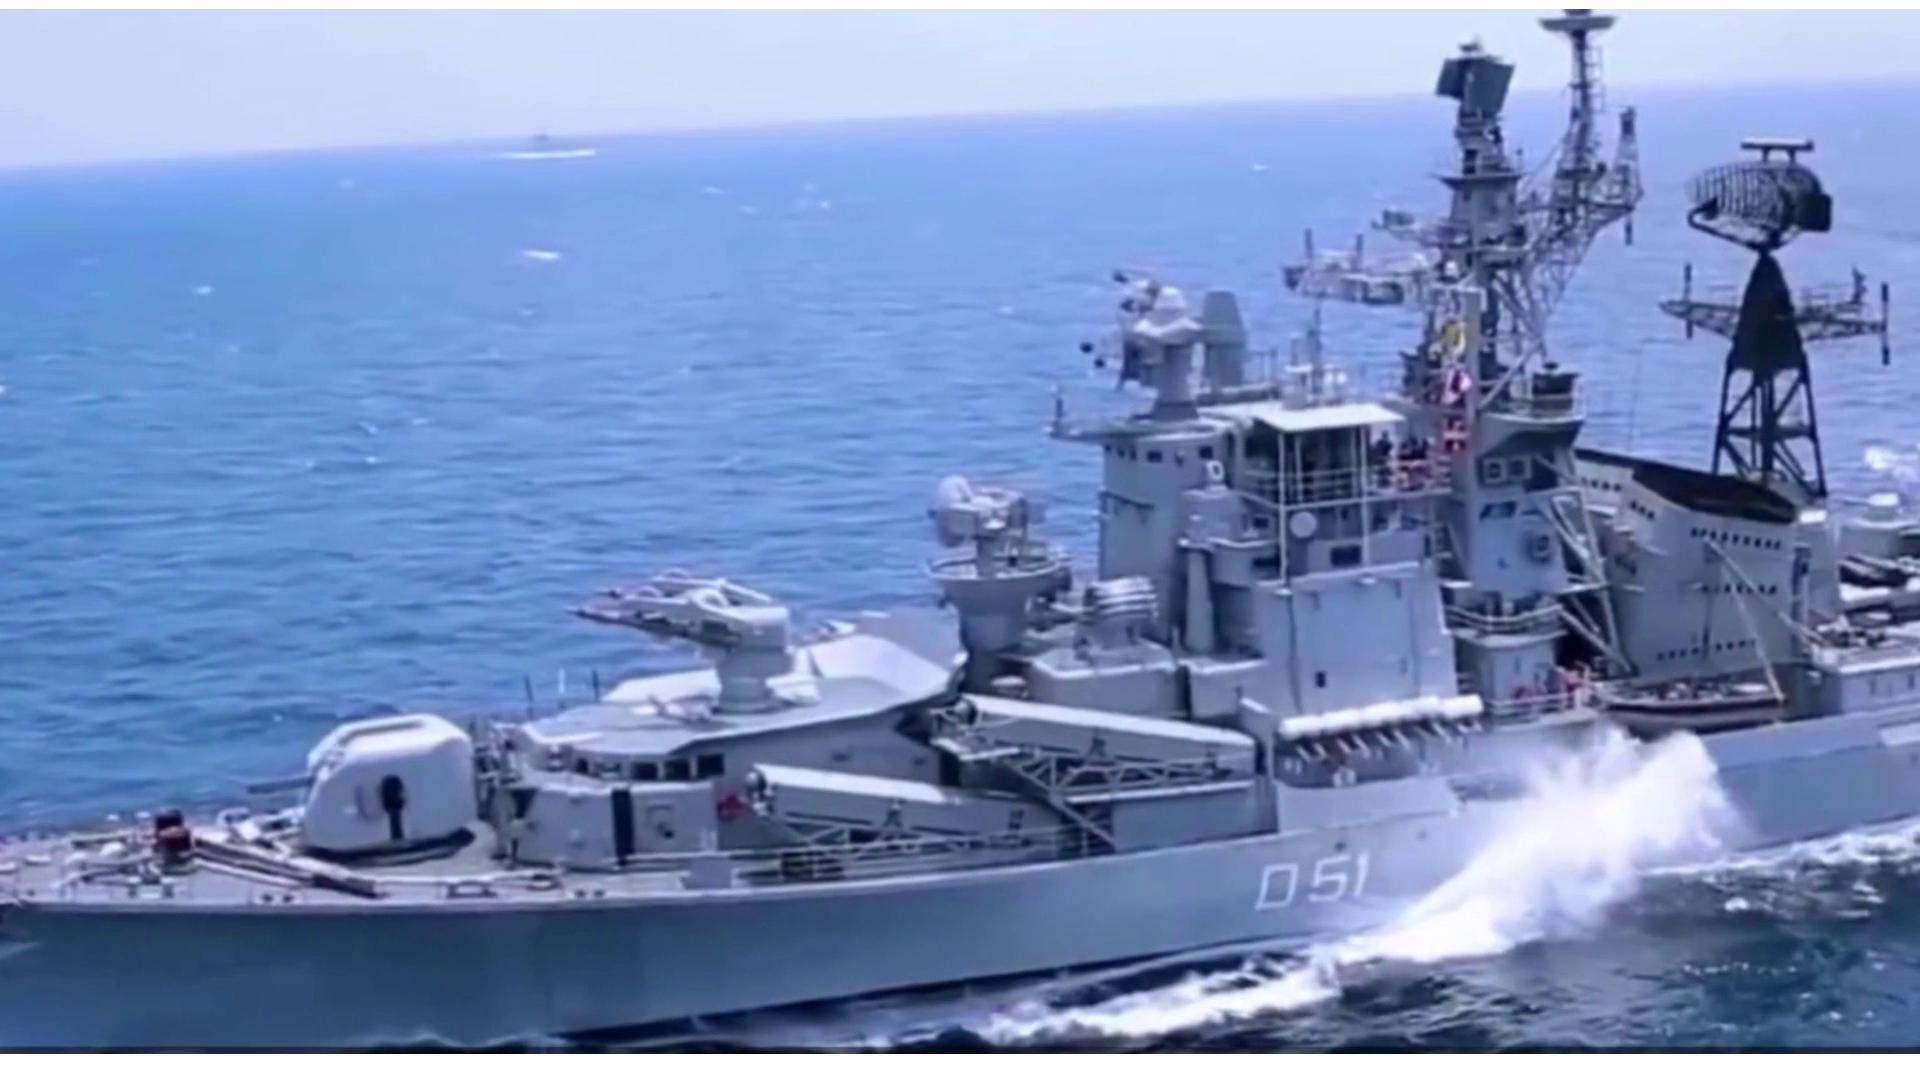OCR: (1237, 837, 1375, 923)
